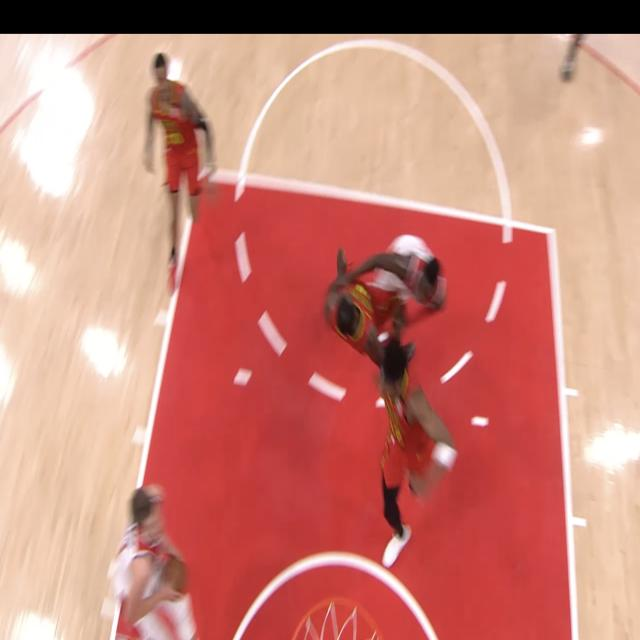foul: (309, 180, 488, 581)
